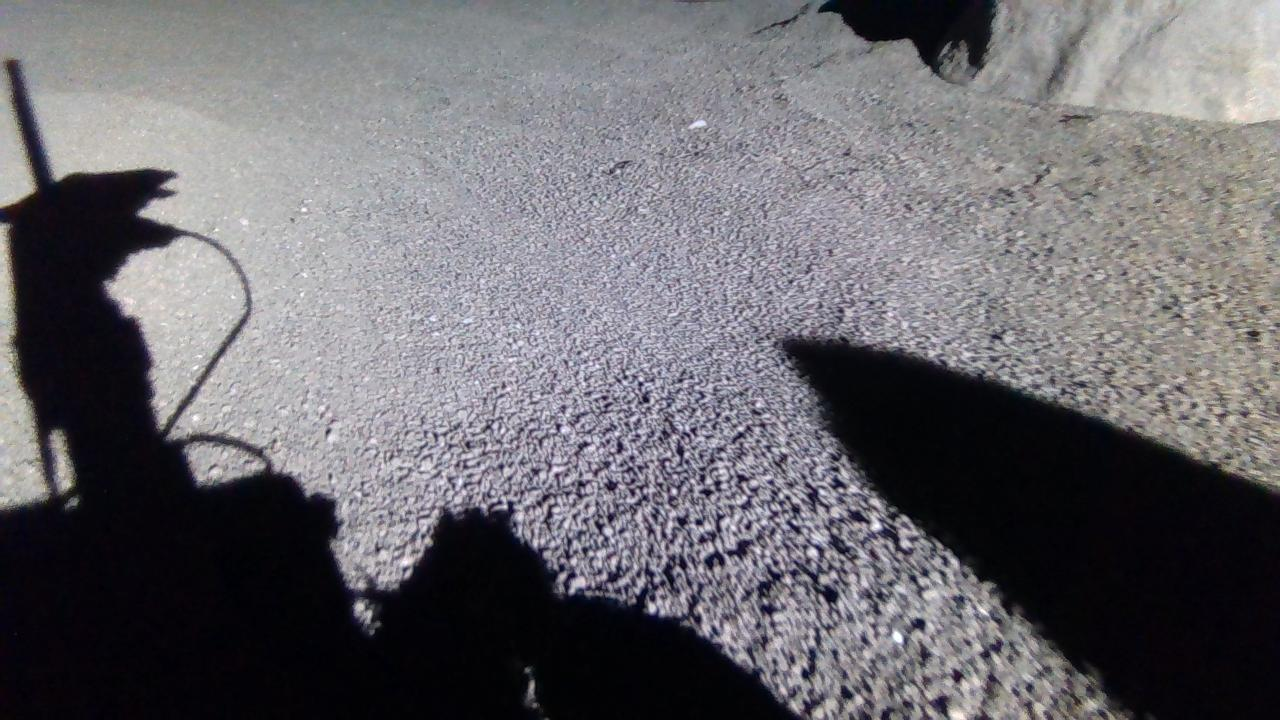rock: (942, 0, 1280, 120)
